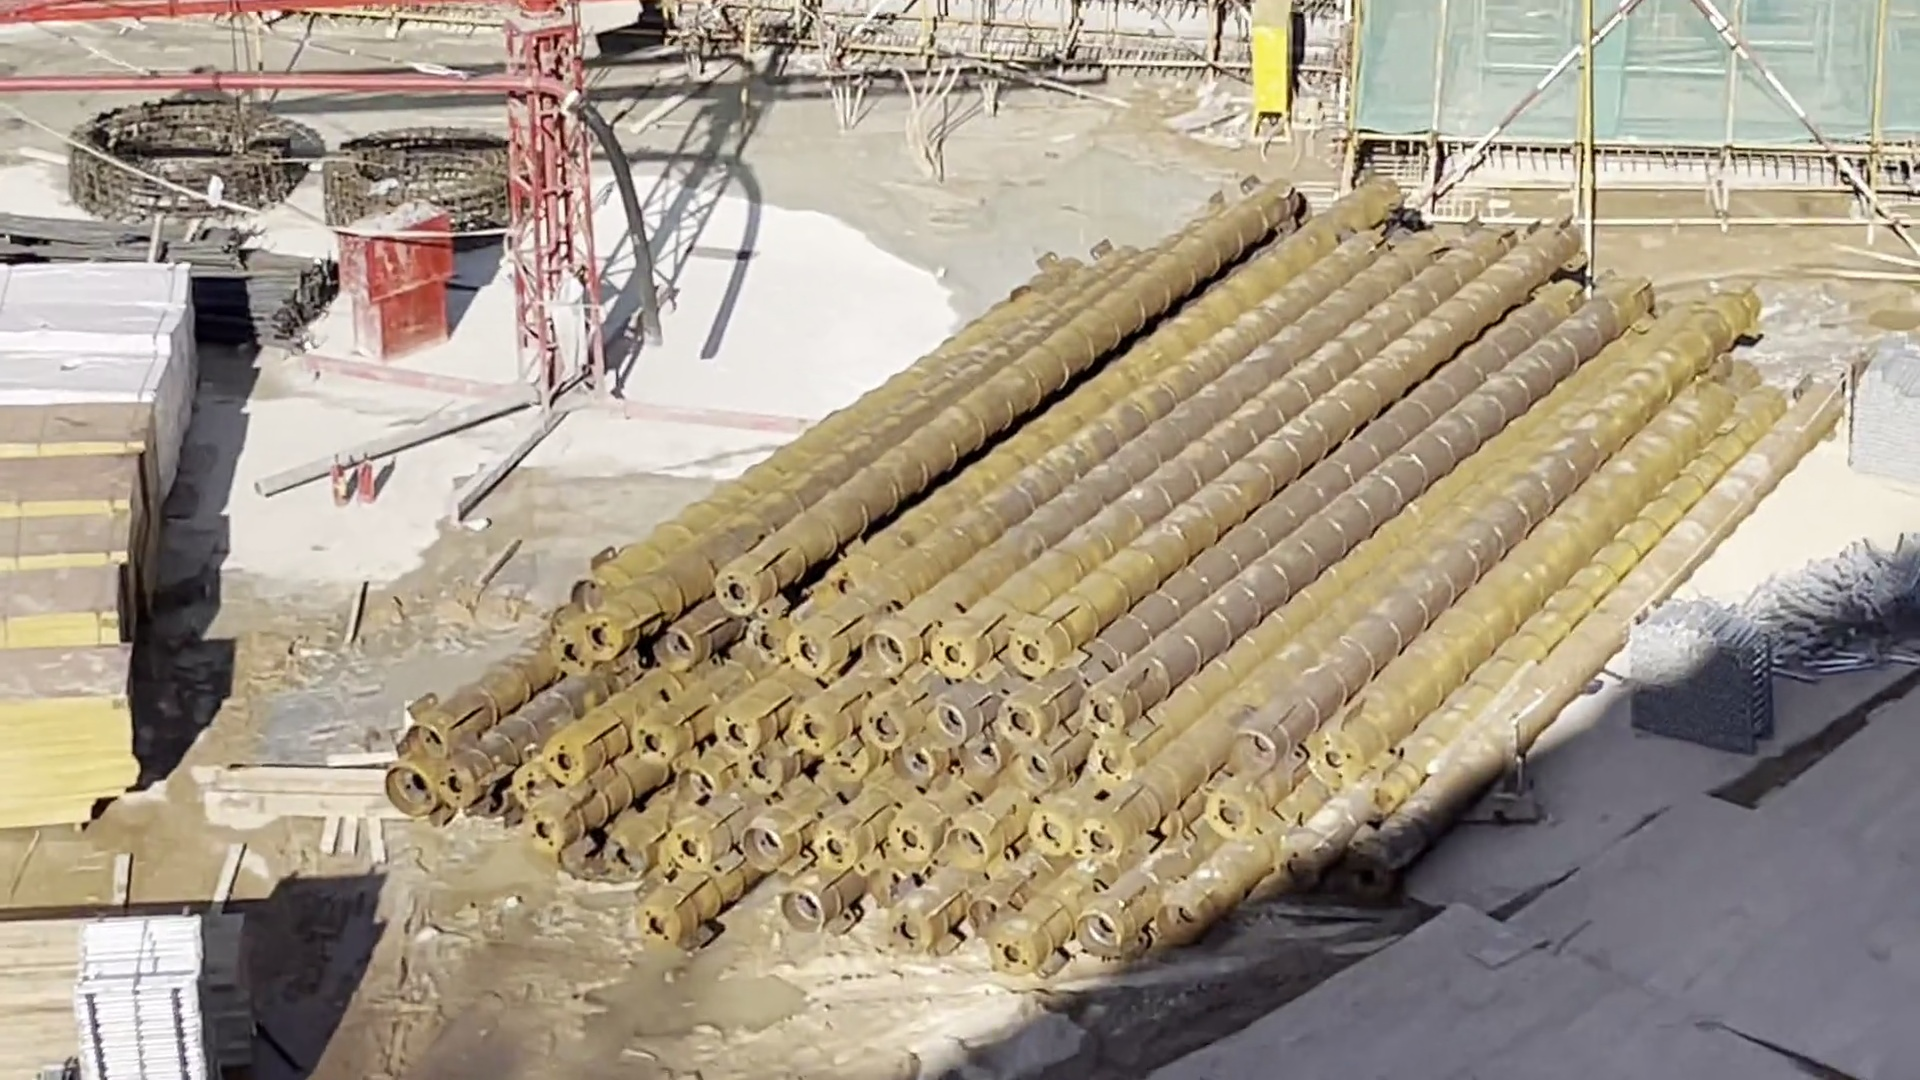board: (1, 401, 161, 823), (3, 918, 82, 1080)
ebox: (1251, 1, 1305, 135)
rebar: (1, 210, 328, 342)
scaffold: (94, 922, 208, 1080)
